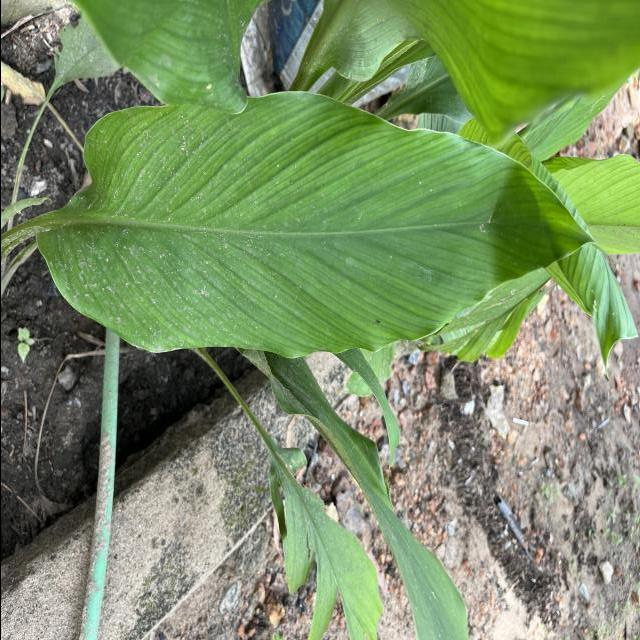Curcuma longa: (29, 86, 602, 364)
